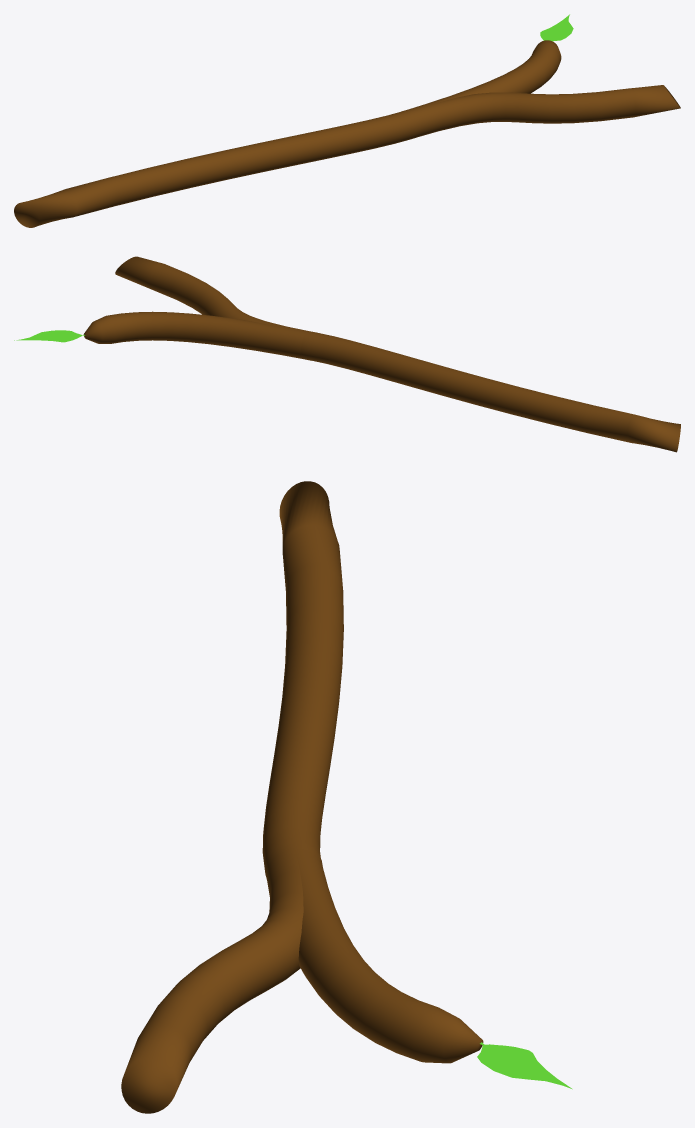
Rendered from branche.fbx.
3 views of the same model, one above another, from view 1: azimuth 30°, elevation 25°; view 2: azimuth 150°, elevation 25°; view 3: azimuth 270°, elevation 25° (orthographic). The views are drawn at different scales.
Visible parts, largest first — view 1: Plane; view 2: Plane; view 3: Plane.
Boxes of the visible parts, box(x1,y1,x2,y2) form: Plane: box(14, 14, 680, 227); Plane: box(14, 256, 680, 452); Plane: box(121, 481, 572, 1113).
Size of the model in its own units: 370 by 15.18 by 120.
